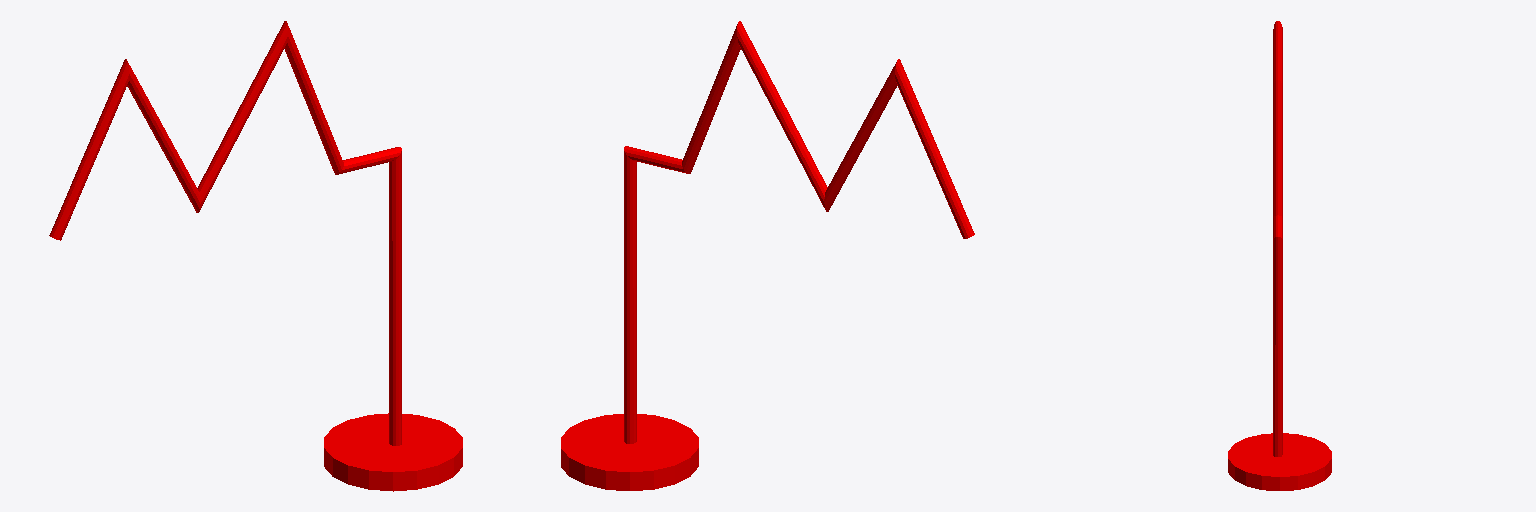
robot.urdf — ring:
<?xml version="0.0" ?>
<robot name="ring">
    <material name="white">
        <color rgba="1 0 0 1"/>
    </material>

    <link name="baseLink">
        <!-- from lego/lego.urdf -->
        <contact>
            <lateral_friction value="1.0"/>
            <rolling_friction value="0.0"/>
            <contact_cfm value="0.0"/>
            <contact_erp value="1.0"/>
        </contact>
        <inertial>
            <origin rpy="0 0 0" xyz="0 0 0"/>
            <mass value="0.01"/>
            <inertia ixx="1" ixy="0" ixz="0" iyy="1" iyz="0" izz="1"/>
        </inertial>
        <visual>
            <origin rpy="1.57 0 0" xyz="0 0 0"/>
            <geometry>
                <!--        radius: 10mm, depth: 14.5mm-->
                <mesh filename="meshes/m.obj" scale="1 1 1"/>
                <!--        <box size="0.002 0.002 0.002"/>-->
            </geometry>
            <material name="white"/>
        </visual>
        <collision>
            <origin rpy="1.57 0 0" xyz="0 0 0"/>
            <geometry>
                <mesh filename="meshes/m_vhacd.obj" scale="1 1 1"/>
                       <!-- <box size="2 2 2"/> -->
            </geometry>
        </collision>
    </link>
</robot>

--- What the picture shows (computed from the rendered views, not written in the file) ---
The picture shows the robot from 3 angles, left to right: view 1: azimuth 30°, elevation 25°; view 2: azimuth 150°, elevation 25°; view 3: azimuth 270°, elevation 25°; orthographic projection.
Robot: ring — 1 links, 0 joints (none); root link baseLink; default pose: all joints at 0.
Links seen in each view (by area): view 1: baseLink; view 2: baseLink; view 3: baseLink.
Link boxes in pixels (<box>): baseLink: <box>49,21,462,491</box>; baseLink: <box>561,21,974,490</box>; baseLink: <box>1228,21,1331,490</box>.
Size in the robot's own frame: 0.1047 by 0.031 by 0.116 metres.
1 mesh visuals loaded from 1 distinct referenced files (1 OBJ).